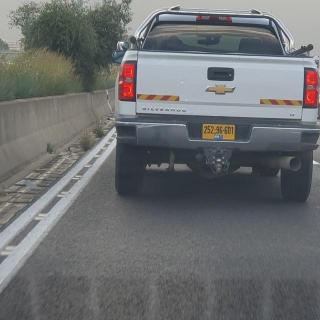LicensePlate: (202, 124, 235, 135)
